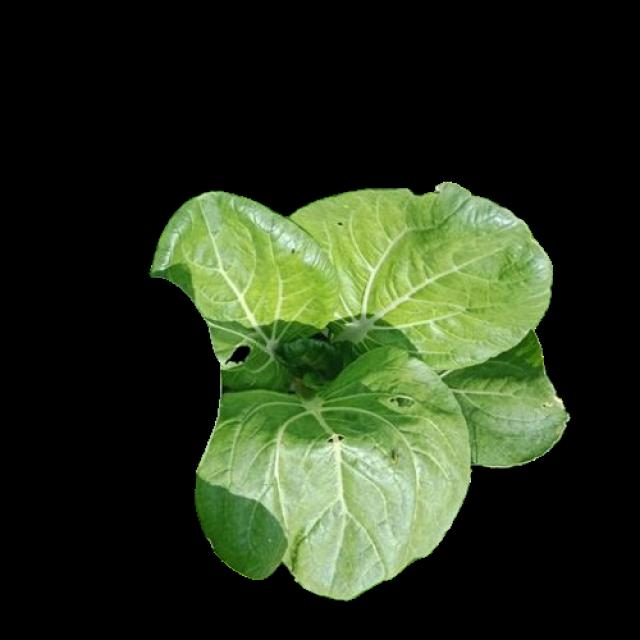mature: (151, 184, 567, 596)
unhealthy: (196, 349, 468, 594), (289, 187, 548, 367), (156, 194, 332, 358), (435, 334, 565, 467)
